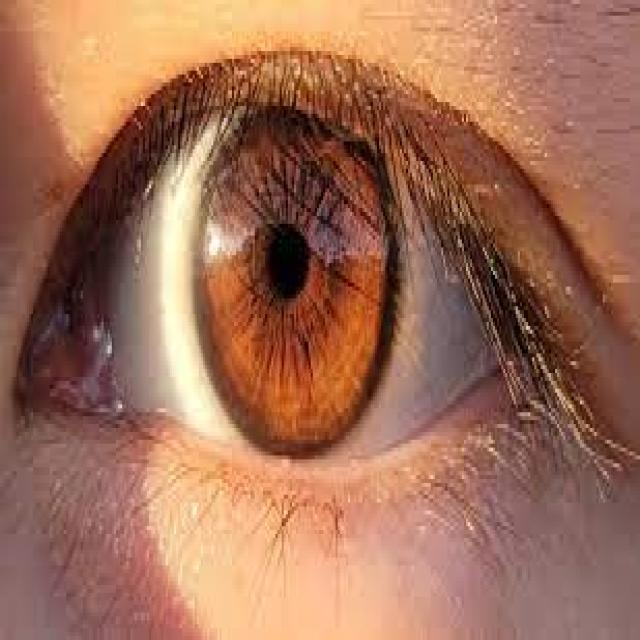Eyes-iris: (186, 85, 404, 467)
